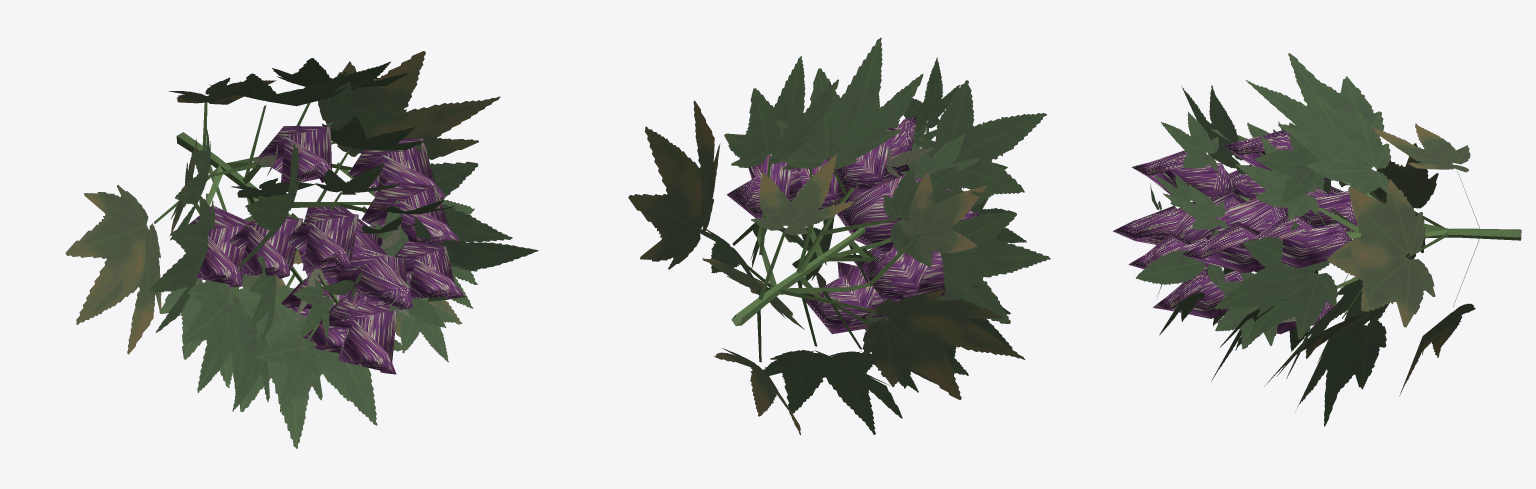
The model's file is p_purple_kush_ripe_c0_cards.obj.
3 renders of one model, left to right at view 1: azimuth 30°, elevation 25°; view 2: azimuth 150°, elevation 25°; view 3: azimuth 270°, elevation 25°, orthographic. The views are drawn at different scales.
Bounding box in the file's own units: 1.72 × 1.47 × 1.35.
Materials: 1 (1 with a texture image).
